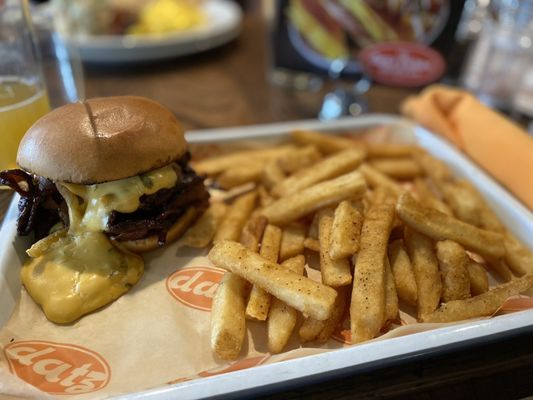soup: (0, 95, 213, 324), (1, 96, 212, 255)
